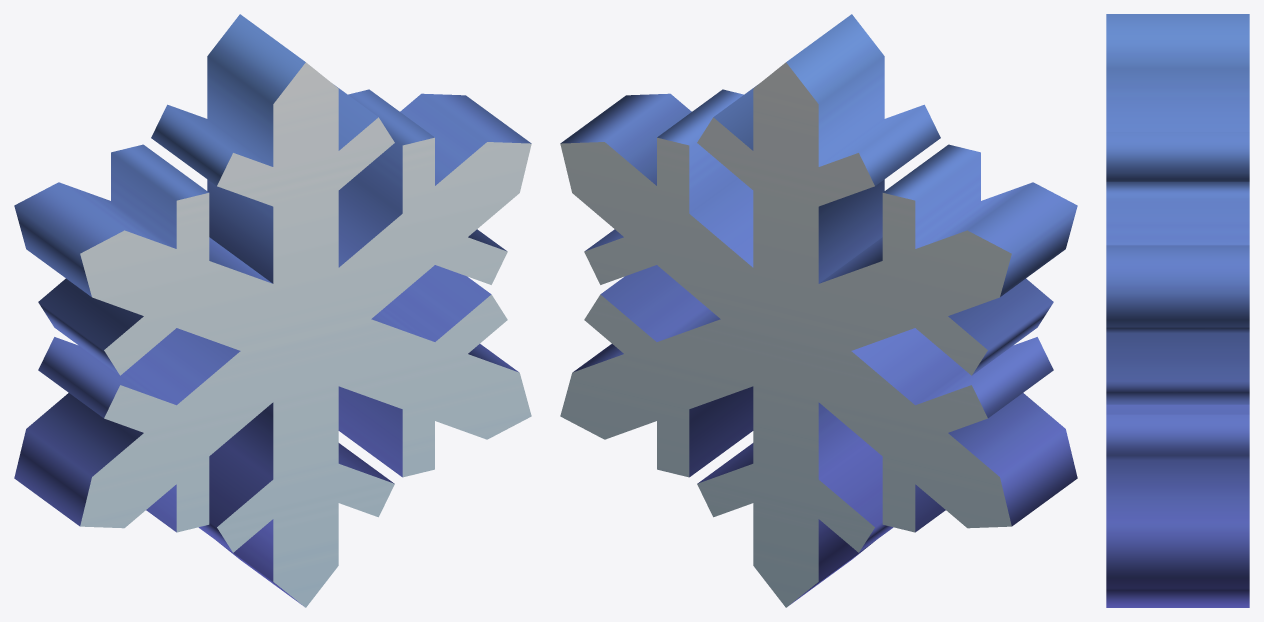
File: snowflake.obj
3 views of the same model, side by side, from view 1: azimuth 30°, elevation 25°; view 2: azimuth 150°, elevation 25°; view 3: azimuth 270°, elevation 25° (orthographic). The views are drawn at different scales.
Visible parts, largest first — view 1: snowflake; view 2: snowflake; view 3: snowflake.
Boxes of the visible parts, left/top/right/bottom form: snowflake: left=14, top=14, right=531, bottom=607; snowflake: left=560, top=14, right=1077, bottom=607; snowflake: left=1106, top=14, right=1249, bottom=607.
Bounding box in the file's own units: 0.866 × 1 × 0.2188.
1 material, 1 textured.
